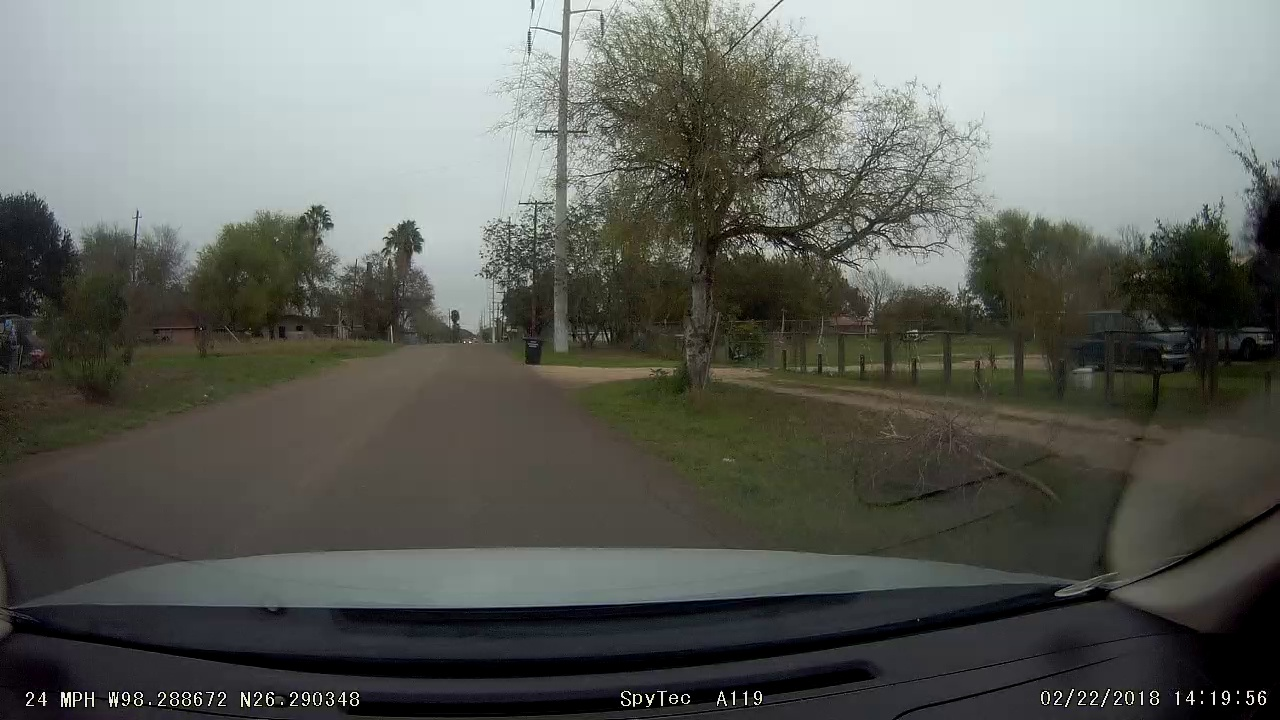blurredLine: (301, 401, 411, 486)
